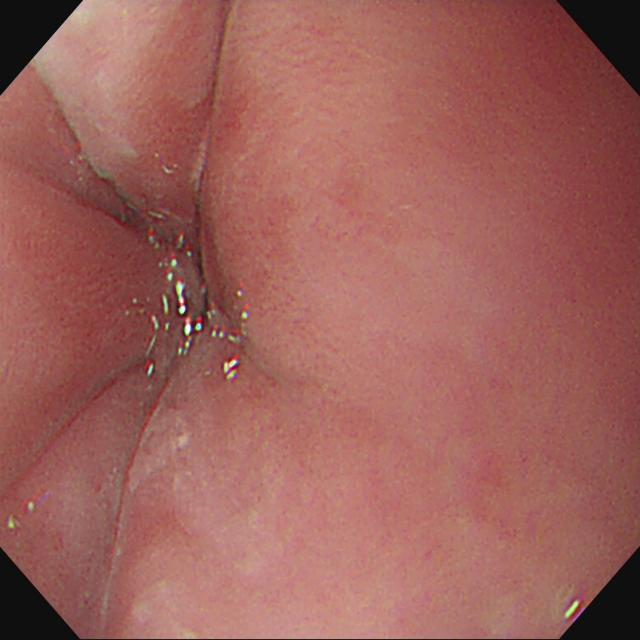U: (144, 231, 202, 380), (212, 286, 248, 382), (565, 596, 584, 624)
